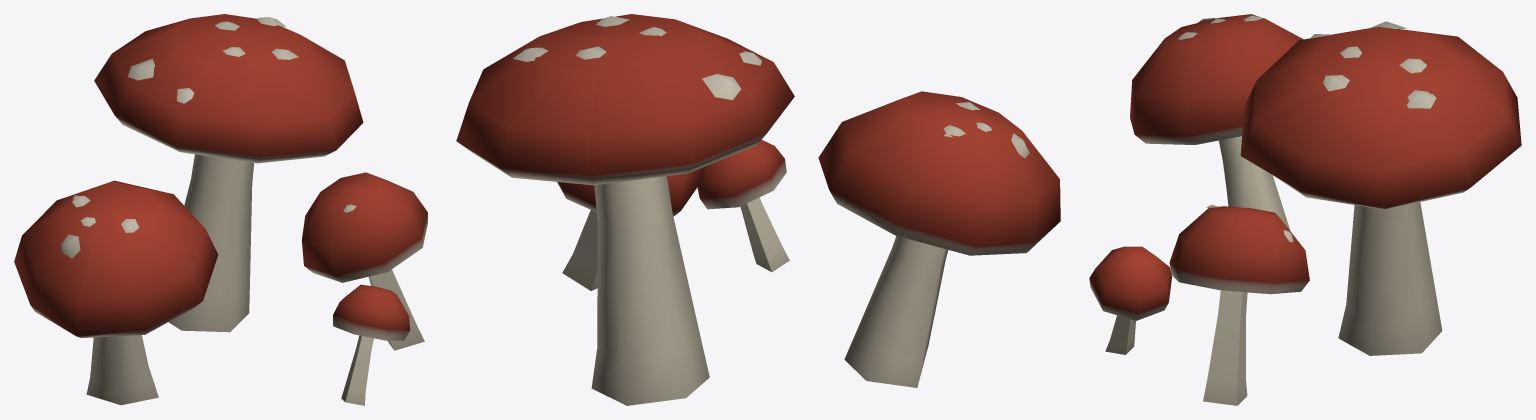
Rendered from mushroom_2.glb.
3 renders of one model, left to right at view 1: azimuth 30°, elevation 25°; view 2: azimuth 150°, elevation 25°; view 3: azimuth 270°, elevation 25°, orthographic. The views are drawn at different scales.
Visible parts, largest first — view 1: mushroom_2; view 2: mushroom_2; view 3: mushroom_2.
Part boxes in pixels (x1=…): mushroom_2: x1=14, y1=14, x2=427, y2=405; mushroom_2: x1=456, y1=14, x2=1060, y2=405; mushroom_2: x1=1089, y1=14, x2=1521, y2=405.
Size of the model in its own units: 0.2324 by 0.1568 by 0.2077.
